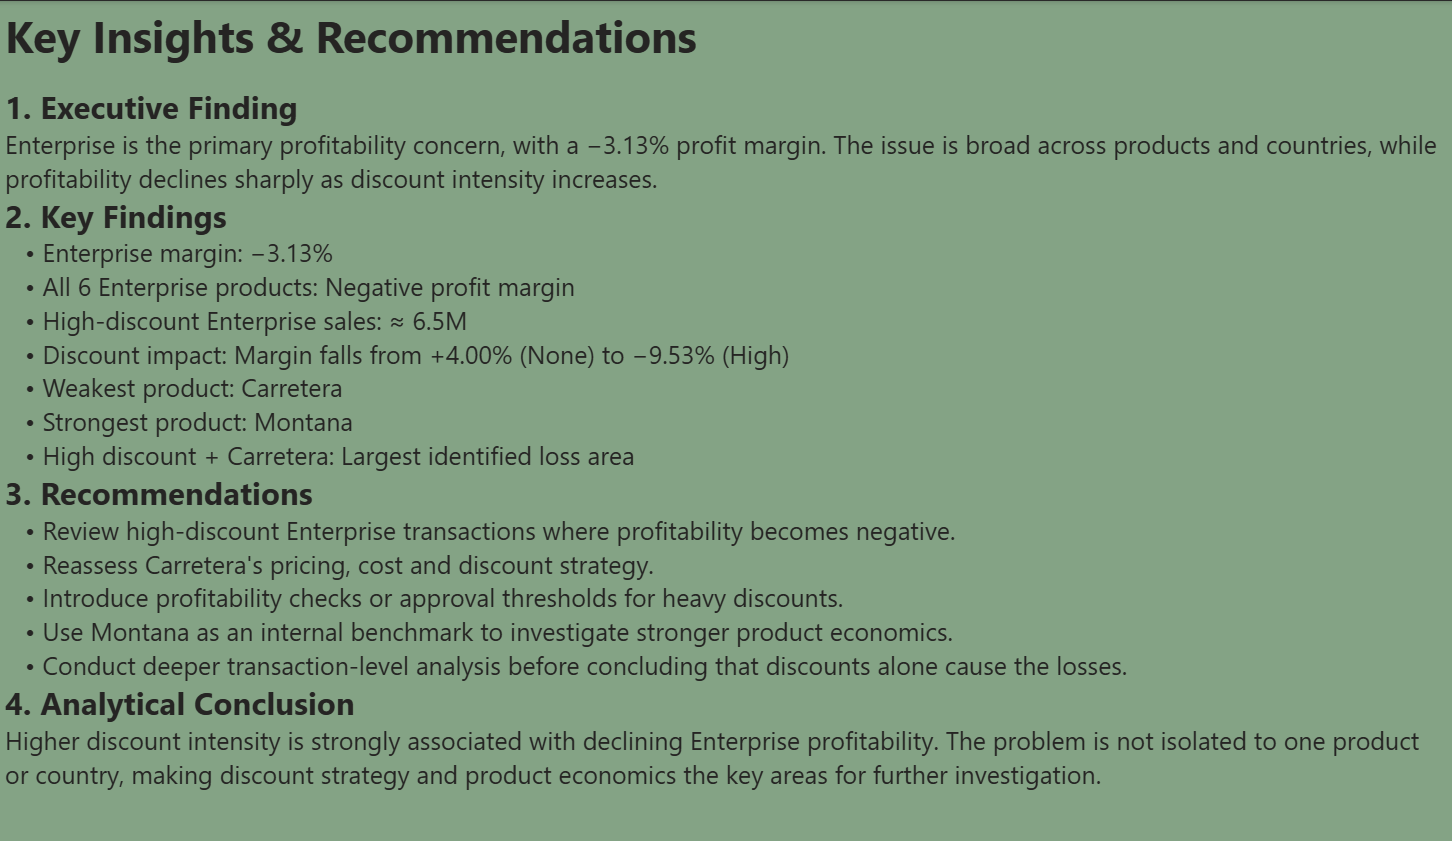

What the dashboard file says about the page in this screenshot:
{"tool":"powerbi","page":{"name":"Key Insights and Recommendation","canvas":[1280,720],"ordinal":2},"visuals":[{"type":"textbox","box":[39.5,0,1240.7,719.8],"z":0}]}

Visuals, with their boxes in screenshot pixels (x1, y1, x2, y2), scaled from the page's 1280x720 canvas onto the 1452x841 screenshot:
textbox: BBox(45, 0, 1451, 840)
